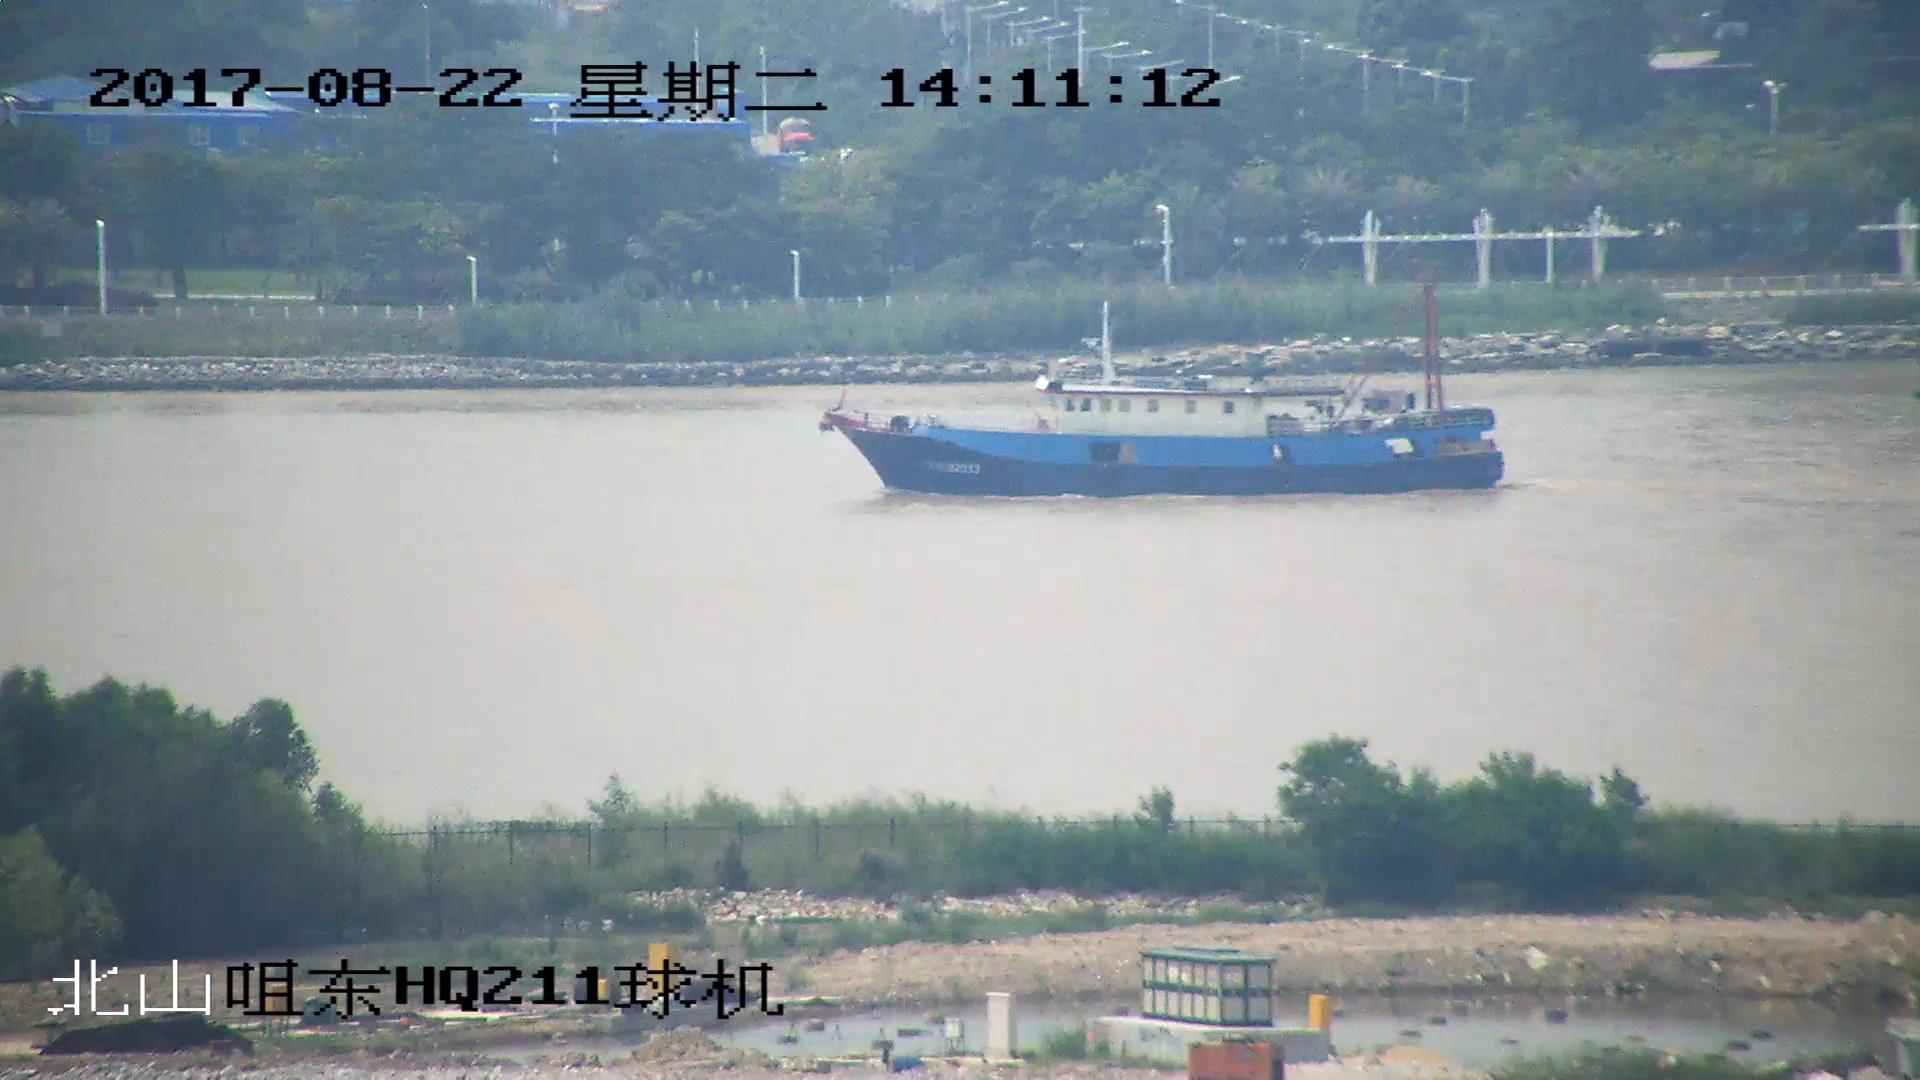fishing boat: (832, 272, 1504, 498)
